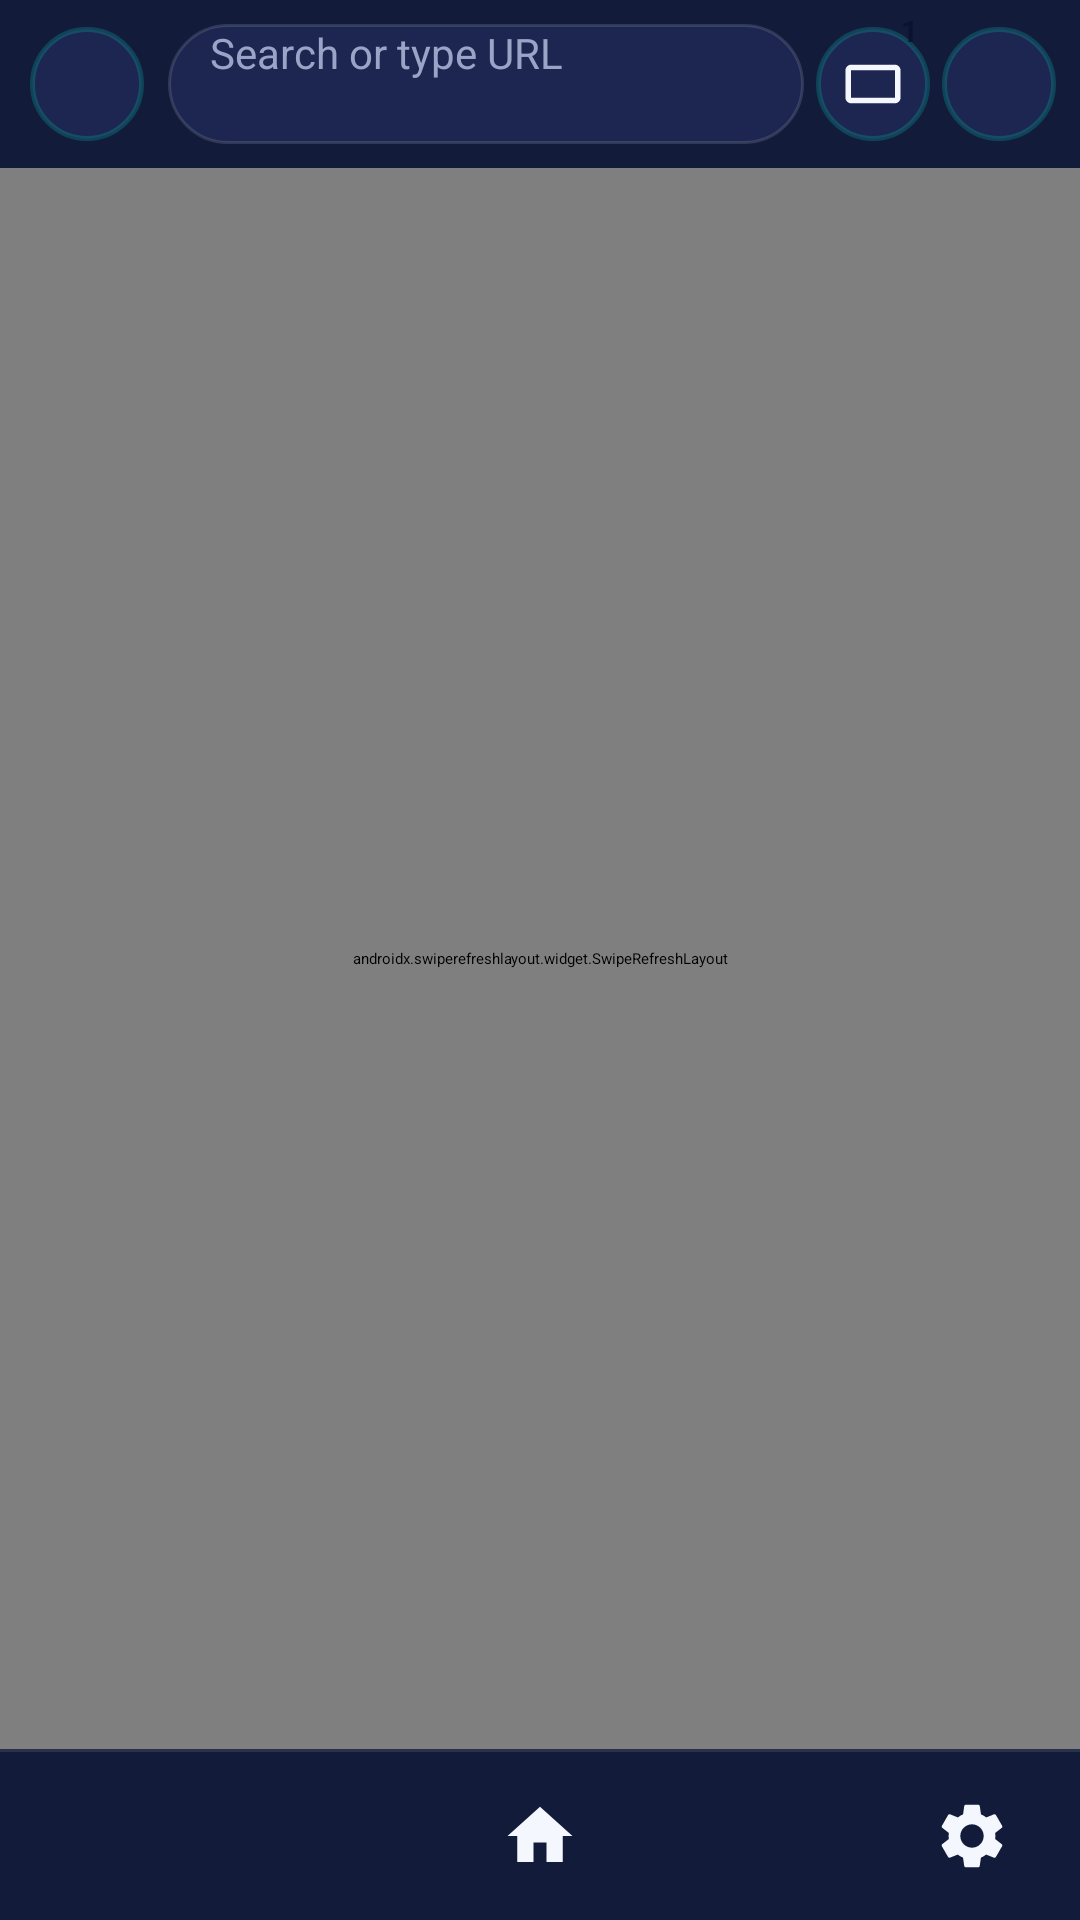

Named icons in this screenshot (1080 x 1920) and their bounding boxes, (left=x1, top=y1, right=x2, bottom=y2):
Home: (left=508, top=1807, right=572, bottom=1862)
Settings: (left=941, top=1804, right=1003, bottom=1868)
